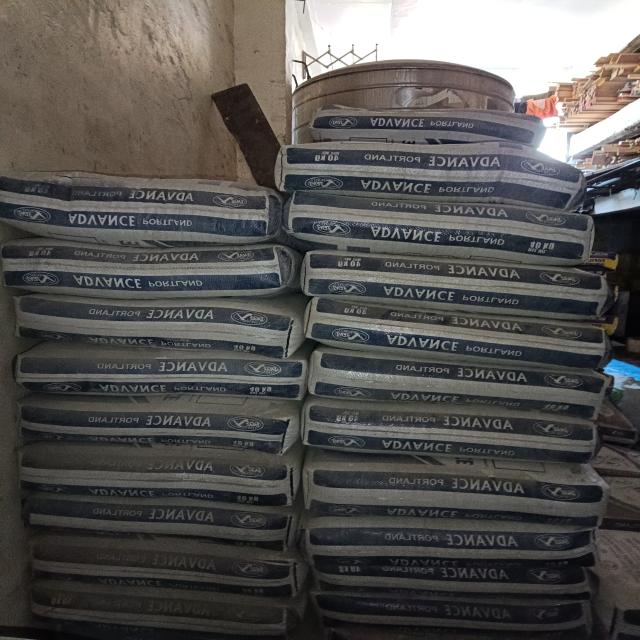Cement: (313, 260, 603, 307), (6, 187, 274, 236), (8, 244, 276, 293), (21, 297, 289, 346), (14, 343, 282, 392), (23, 394, 291, 443), (16, 444, 284, 493), (318, 309, 602, 354), (311, 359, 595, 404), (305, 406, 589, 451), (311, 459, 595, 504), (303, 506, 587, 551), (301, 549, 585, 594), (308, 582, 592, 627), (281, 210, 591, 250), (19, 494, 276, 538), (33, 537, 290, 581), (31, 583, 288, 627), (282, 151, 572, 177), (281, 173, 571, 199), (304, 117, 542, 143)
